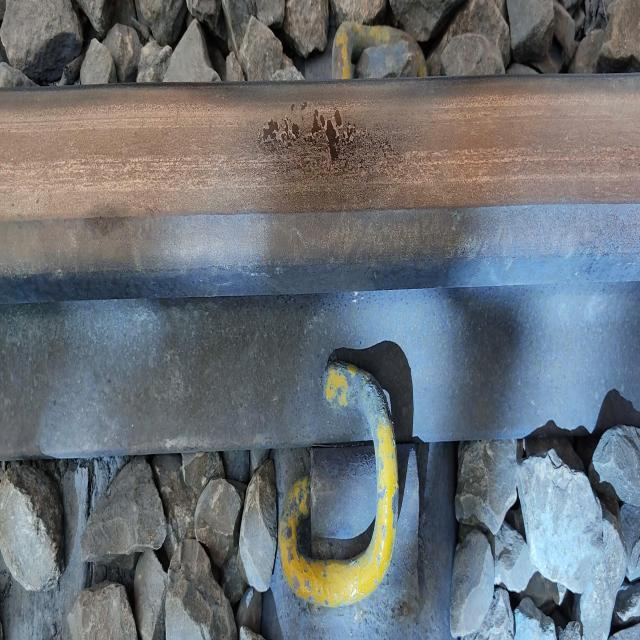Good Fasteners: (255, 325, 446, 640)
